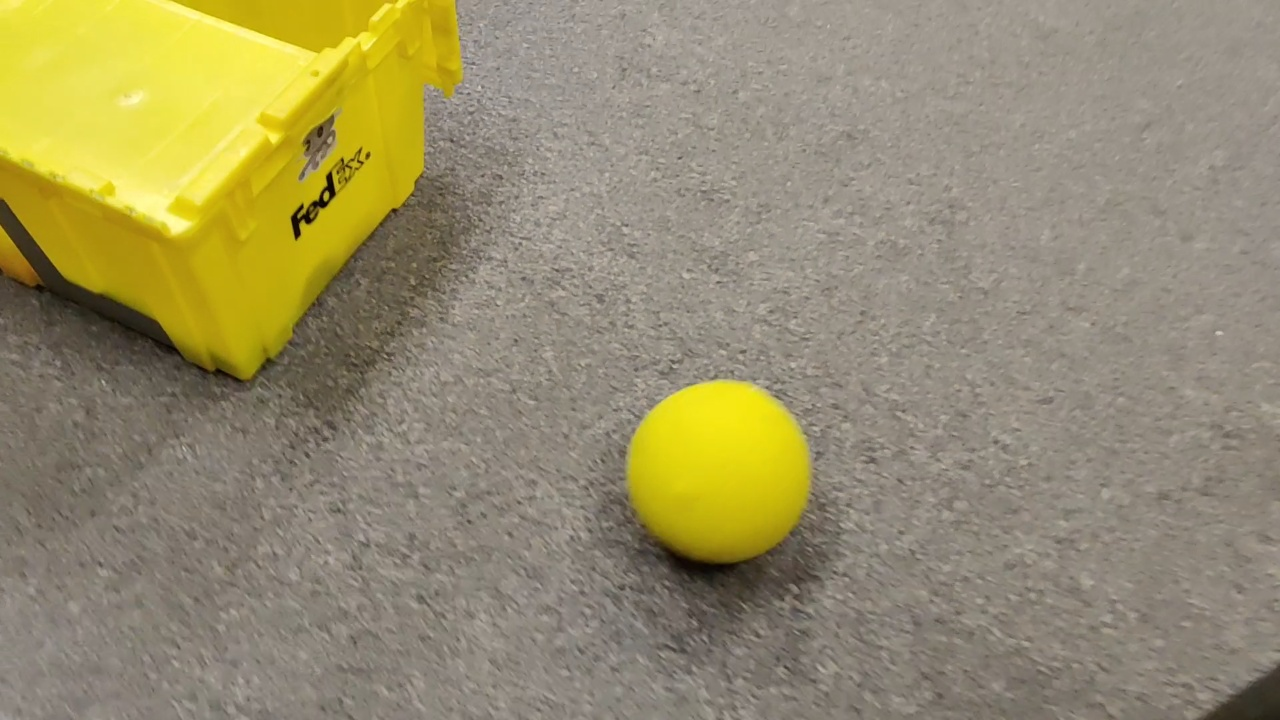Ball: (625, 383, 811, 559)
